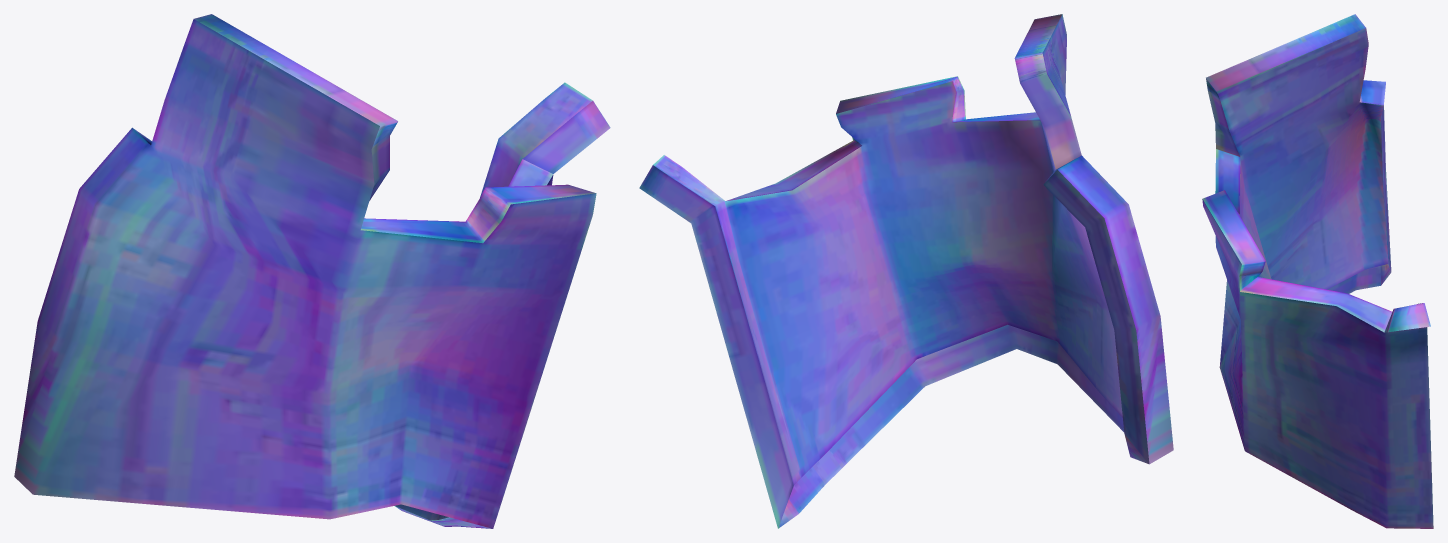
File: debris_01_09.glb
3 views of the same model, side by side, from view 1: azimuth 30°, elevation 25°; view 2: azimuth 150°, elevation 25°; view 3: azimuth 270°, elevation 25° (orthographic). The views are drawn at different scales.
Visible parts, largest first — view 1: debris_01_09; view 2: debris_01_09; view 3: debris_01_09.
Boxes of the visible parts, bbox=[...] form: debris_01_09: bbox=[14, 14, 610, 528]; debris_01_09: bbox=[639, 14, 1173, 528]; debris_01_09: bbox=[1202, 14, 1433, 528].
Size of the model in its own units: 1.37 by 1.3 by 0.6437.
1 material, 1 textured.
